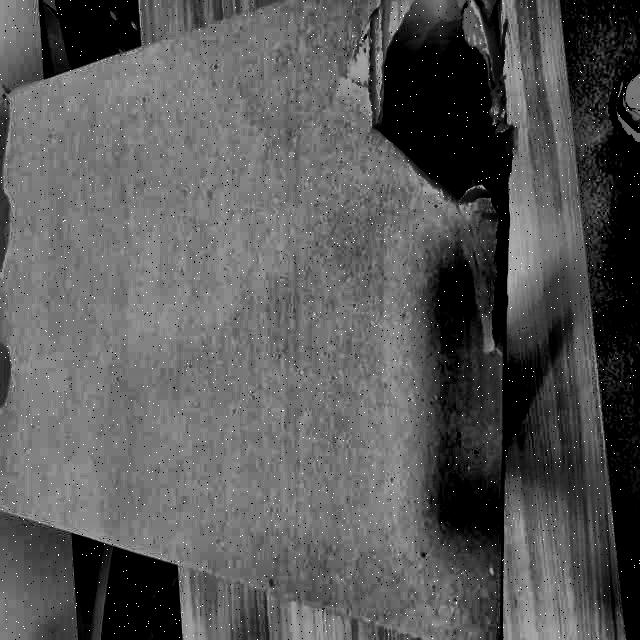box: (0, 0, 512, 639)
hole: (369, 6, 510, 360)
